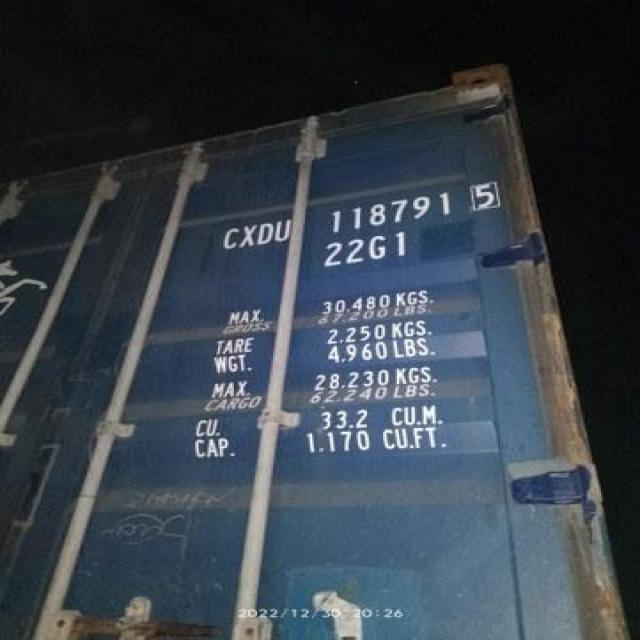container_number_h: (180, 175, 558, 280)
